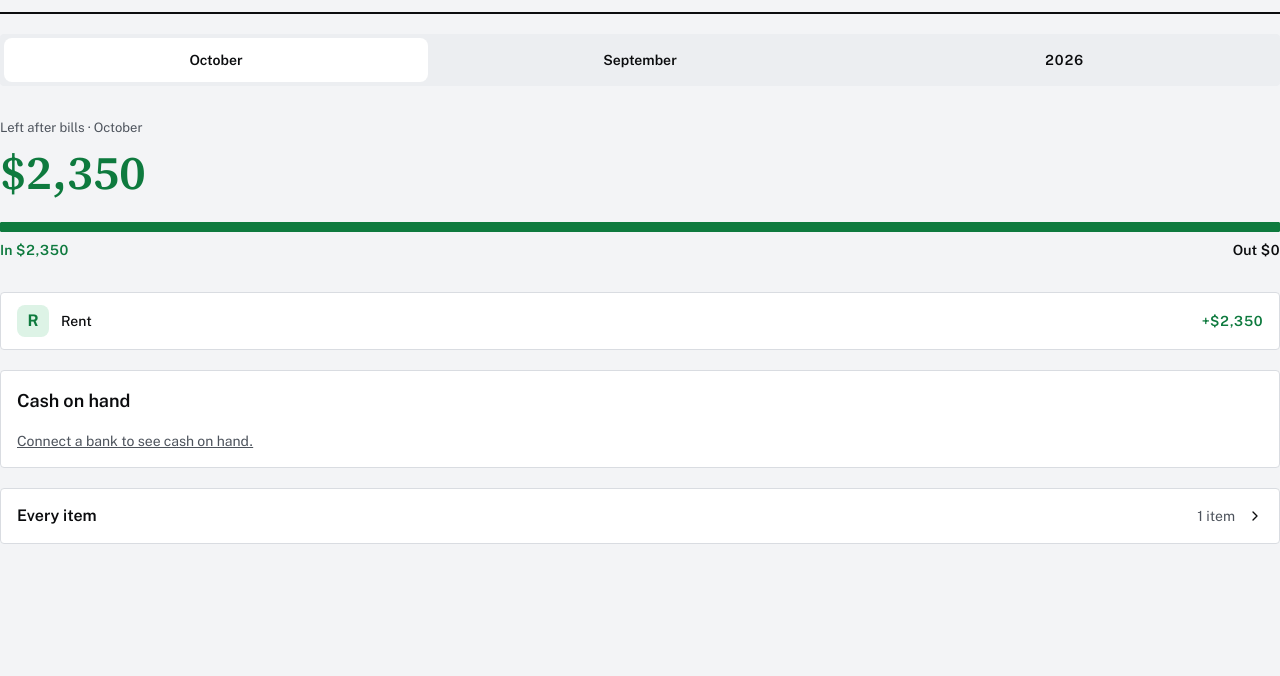
Scenario: Money components › 3e Every item expands with aria-expanded
What coordinates should you click on to do the following:
click the button "Every item 1 item"
I would click on:
 (57, 515)
Its box is [0, 488, 1279, 544].
(page scrolled)
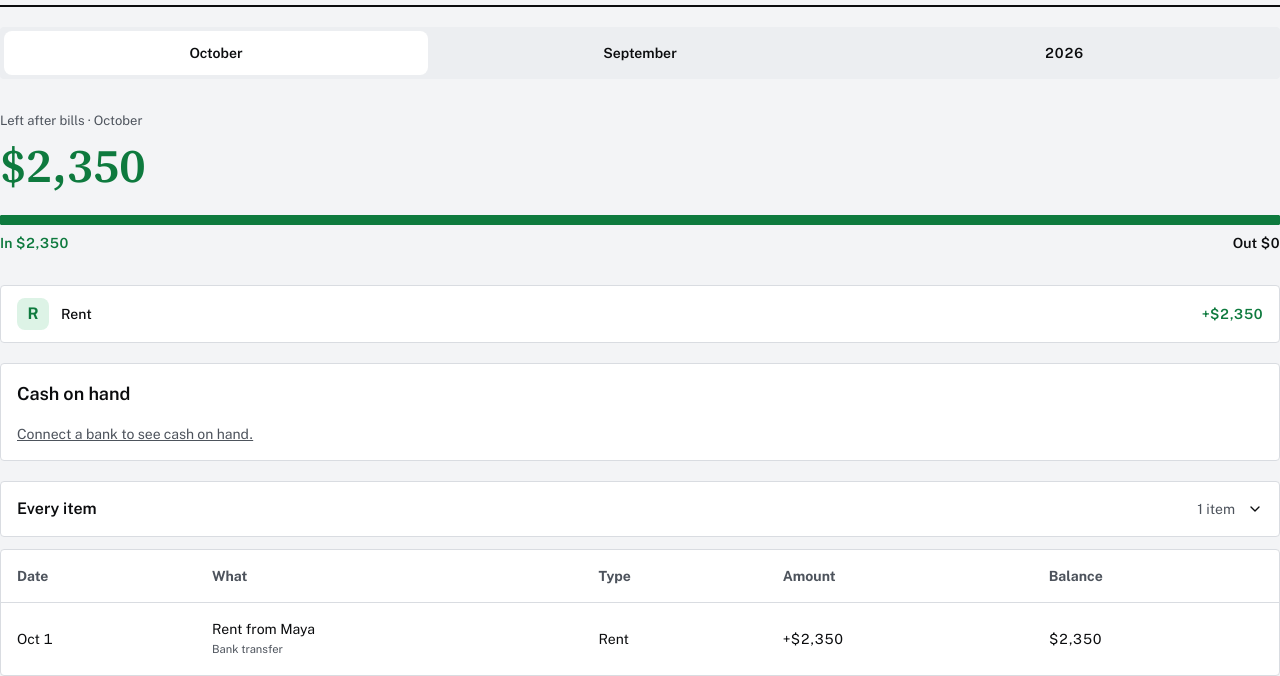
Expected: the button "Every item 1 item" is expanded, [0, 480, 1279, 536]
Expected: the table is shown, [1, 550, 1279, 674]
